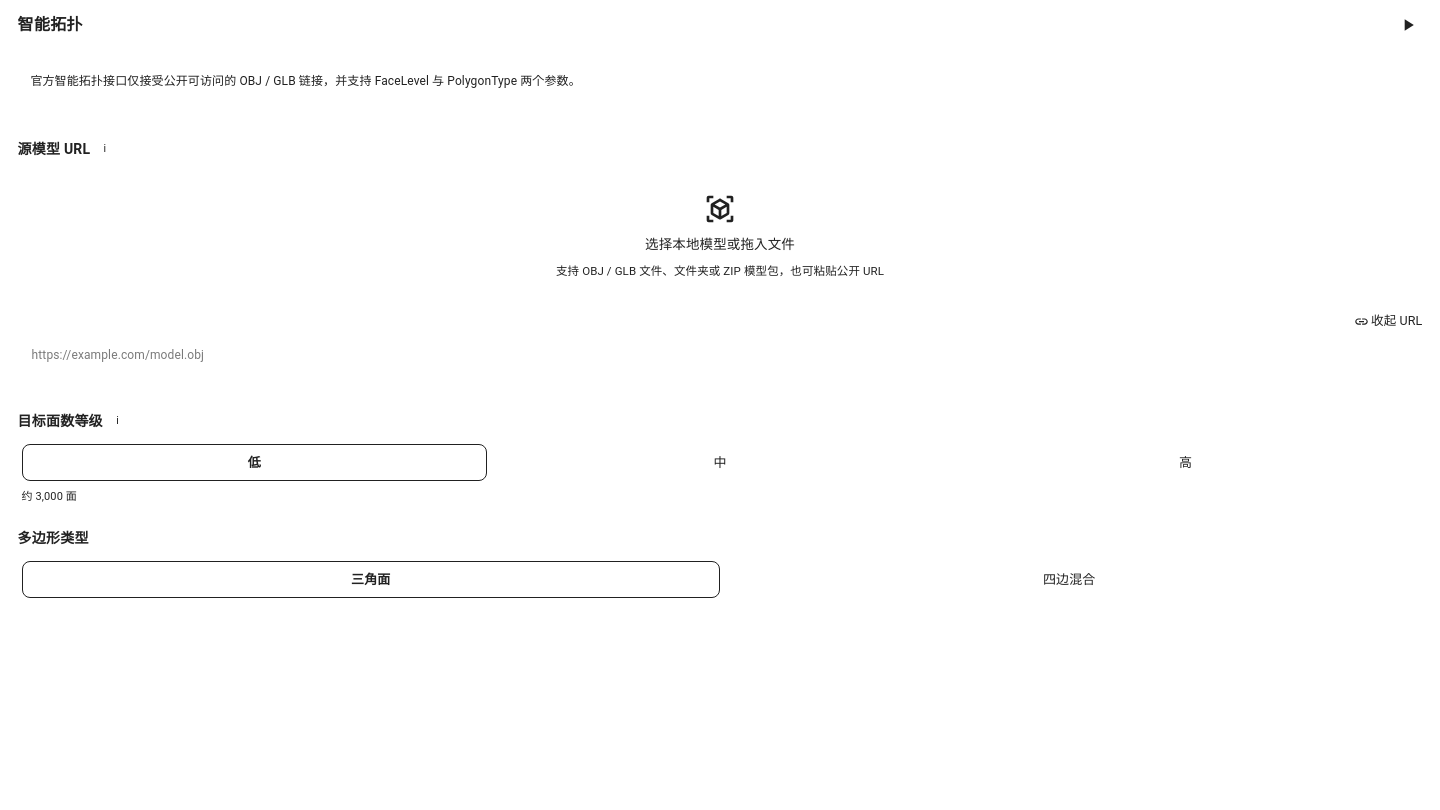
Scenario: Hunyuan3D post-process panels › shows the face-level help tooltip for topology settings
Hover over the text named "目标面数等级说明" at (117, 420), box left=116, top=414, right=119, bottom=427
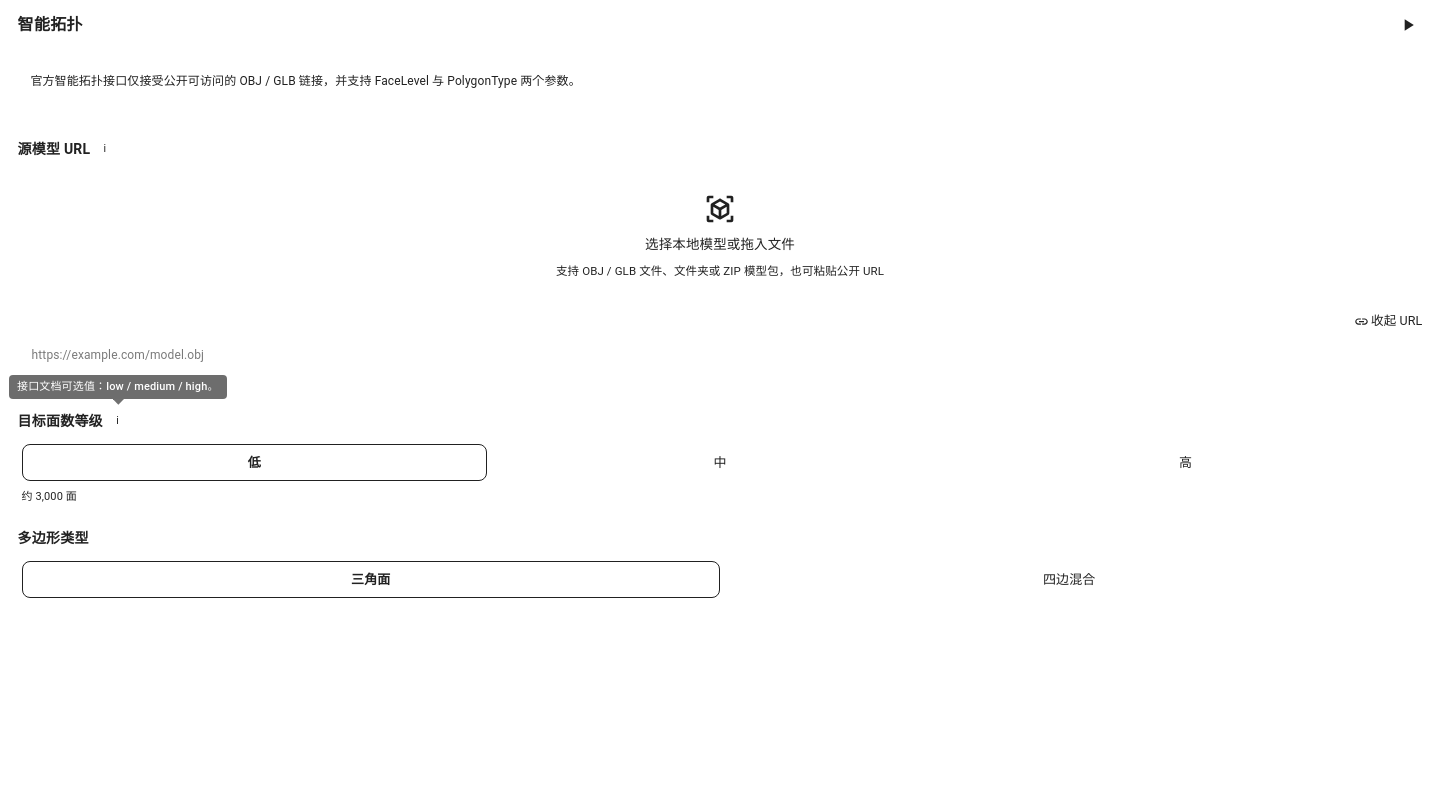
Check: the tooltip reads "接口文档可选值：low / medium / high。", box left=17, top=380, right=219, bottom=392
